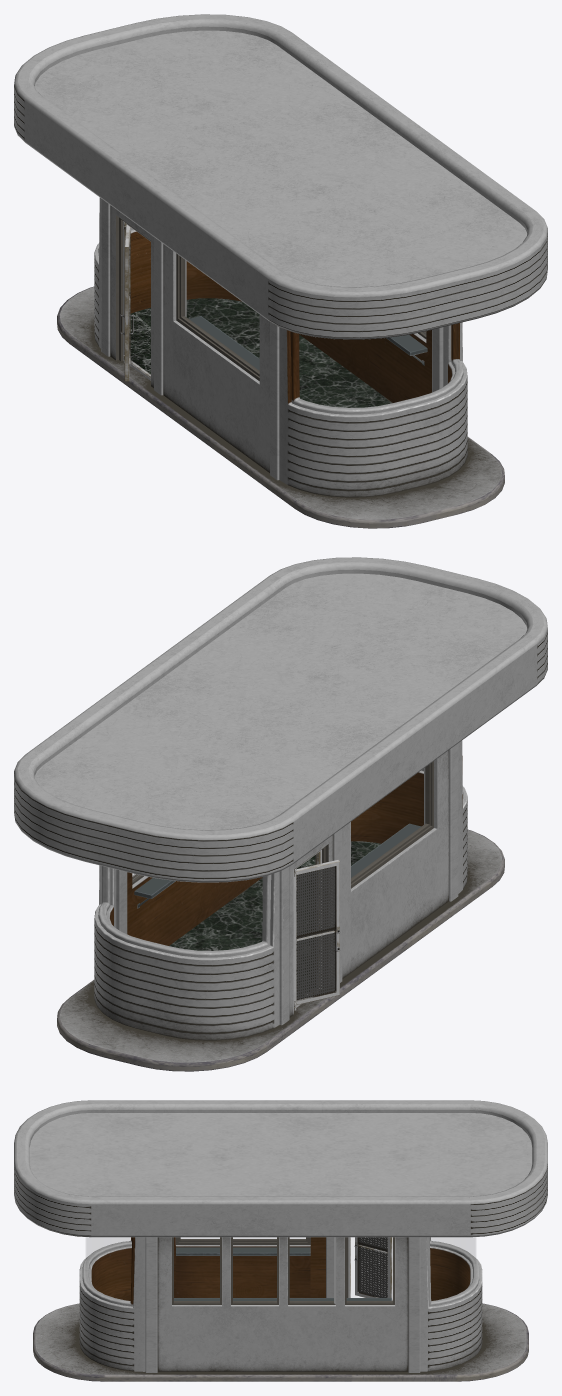
Rendered from security.obj.
The picture shows the model from 3 angles, top to bottom: view 1: azimuth 30°, elevation 25°; view 2: azimuth 150°, elevation 25°; view 3: azimuth 270°, elevation 25°; orthographic projection. The views are drawn at different scales.
Parts seen in each view (by area): view 1: Base_02_0, Base_01_0, _1_3__0_Door_0; view 2: Base_02_0, Base_01_0, _1_3__0_Door_0; view 3: Base_02_0, Base_01_0, _1_3__0_Door_0, Base_Glass_0.
Boxes of the visible parts, box(x1,y1,x2,y2) form: Base_02_0: box(14, 14, 547, 497); Base_01_0: box(57, 198, 504, 528); _1_3__0_Door_0: box(120, 224, 133, 381); Base_02_0: box(14, 557, 547, 1040); Base_01_0: box(57, 743, 504, 1071); _1_3__0_Door_0: box(294, 860, 340, 1007); Base_02_0: box(14, 1100, 547, 1371); Base_01_0: box(33, 1237, 528, 1381); _1_3__0_Door_0: box(354, 1237, 392, 1300); Base_Glass_0: box(86, 1237, 475, 1262).
Size of the model in its own units: 4.64 by 4.1 by 10.24.
